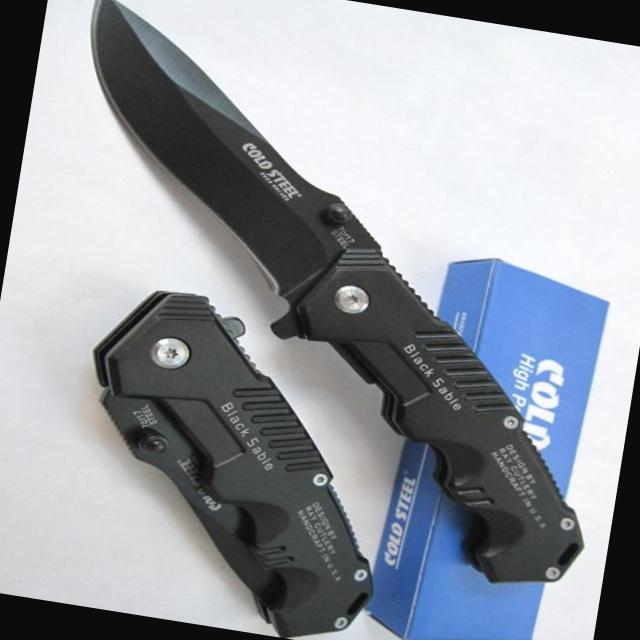knife: (32, 0, 418, 319)
